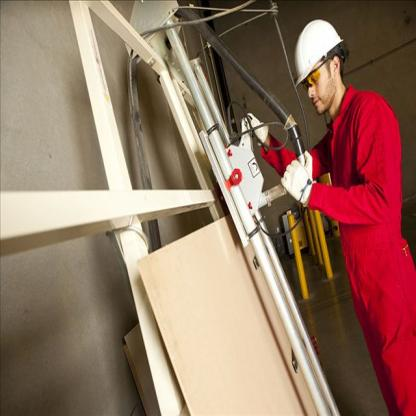helmet: (285, 6, 353, 115)
